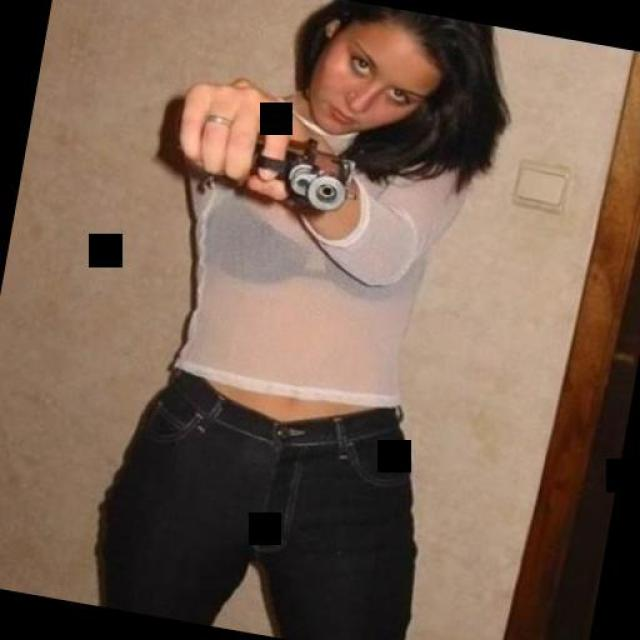gun: (134, 81, 374, 222)
